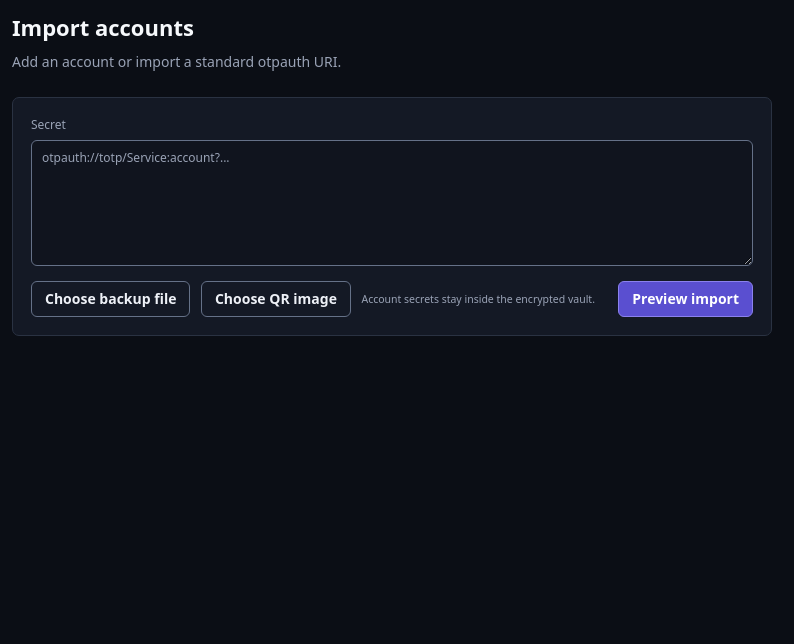
it: import preview sources › previews and commits only new items from paste
The image size is (794, 644).
In the text box labelled "Secret": (392, 203) [31,140,753,266], type "otpauth-migration://offline?data=sample"
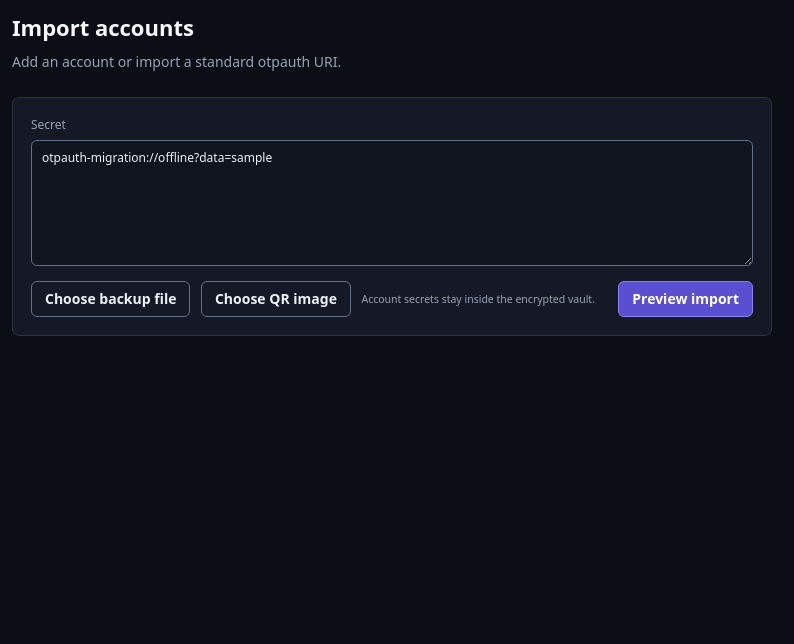
Click the button "Preview import": (686, 299) [618,281,753,317]
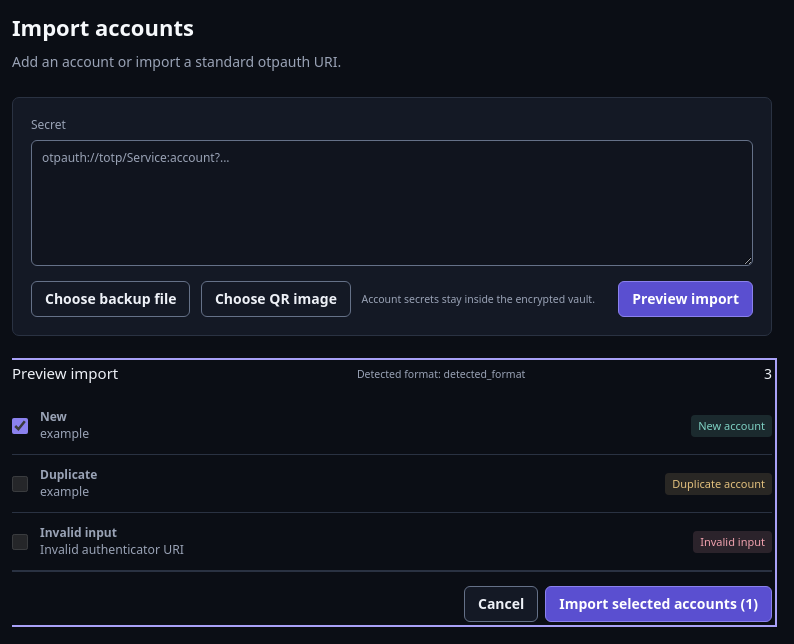
Result: the checkbox labelled "New example New account" is checked at [12,418,28,434]
Result: the checkbox labelled "Duplicate example Duplicate account" is disabled at [12,476,28,492]
Result: the checkbox labelled "Invalid input Invalid authenticator URI Invalid input" is disabled at [12,534,28,550]
Click the button "Import selected accounts (1)": (659, 604) [545,586,772,622]
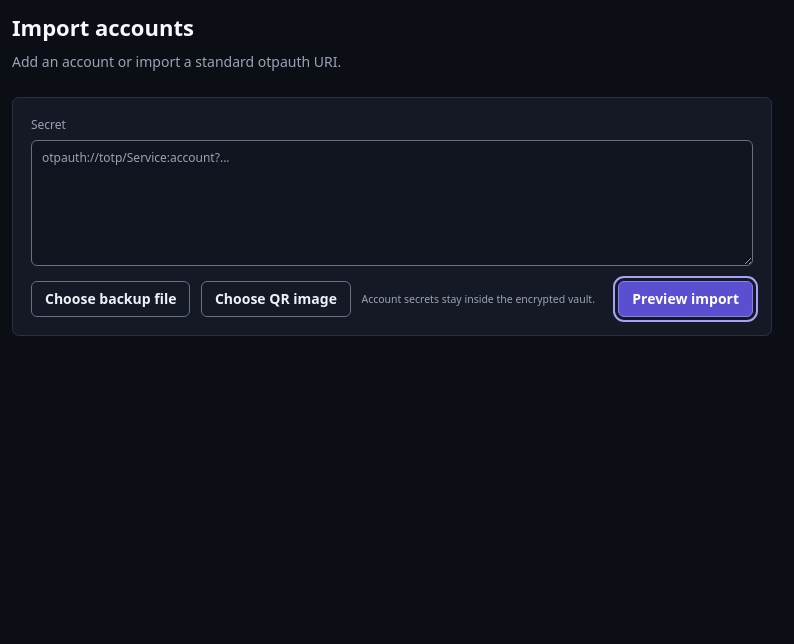
Result: the checkbox is gone
